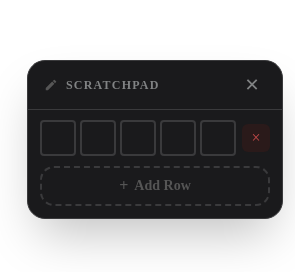
Scratchpad › adds a row when Add Row is clicked
Click the button "+ Add Row".
click(155, 186)  # box x1=40 y1=166 x2=270 y2=206
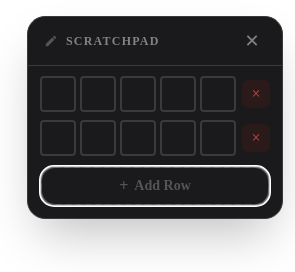
Check: the number of buttons "×" is 2, box x1=242 y1=80 x2=270 y2=108; x1=242 y1=124 x2=270 y2=152
